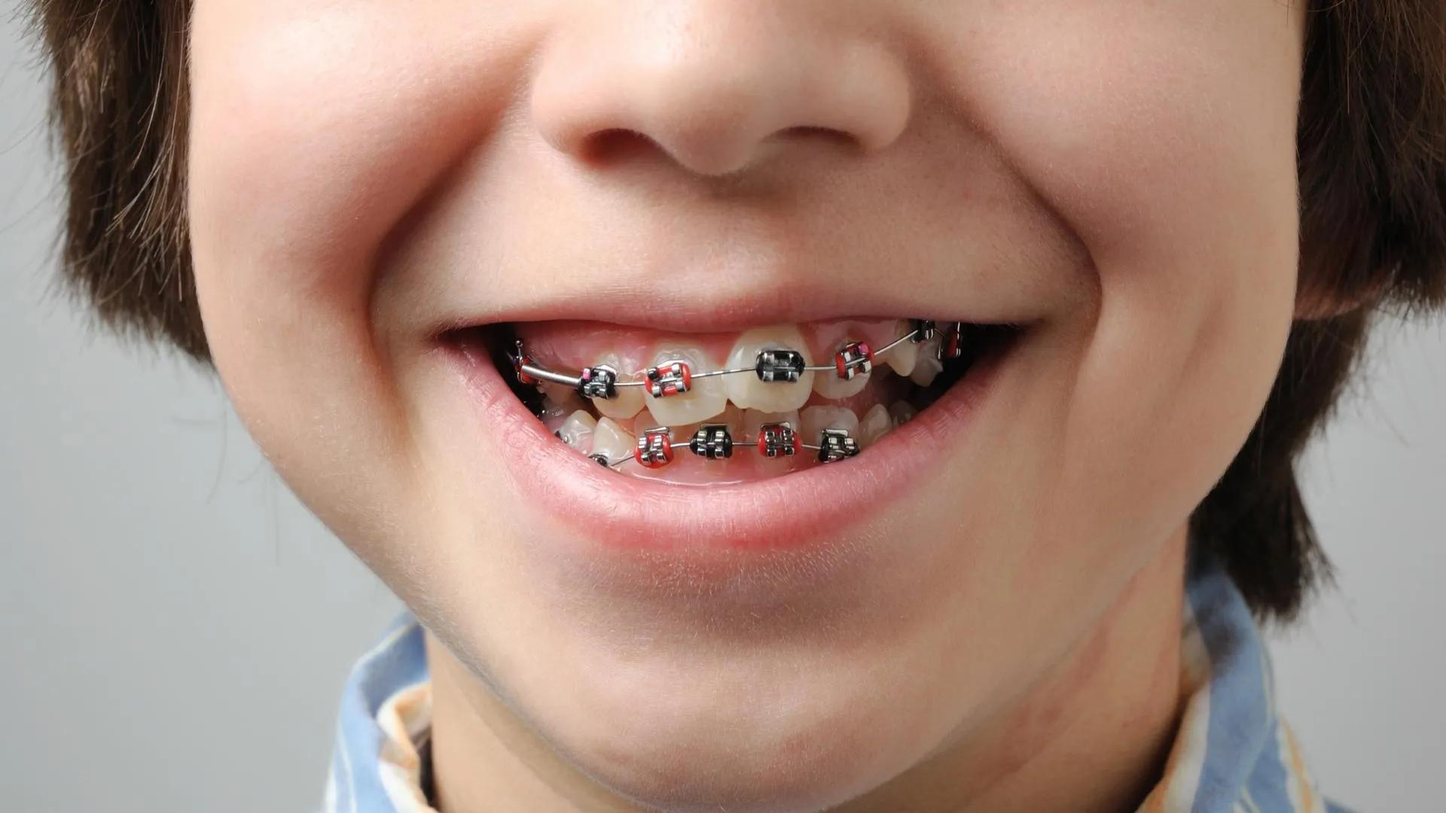Braces: (501, 320, 992, 470)
